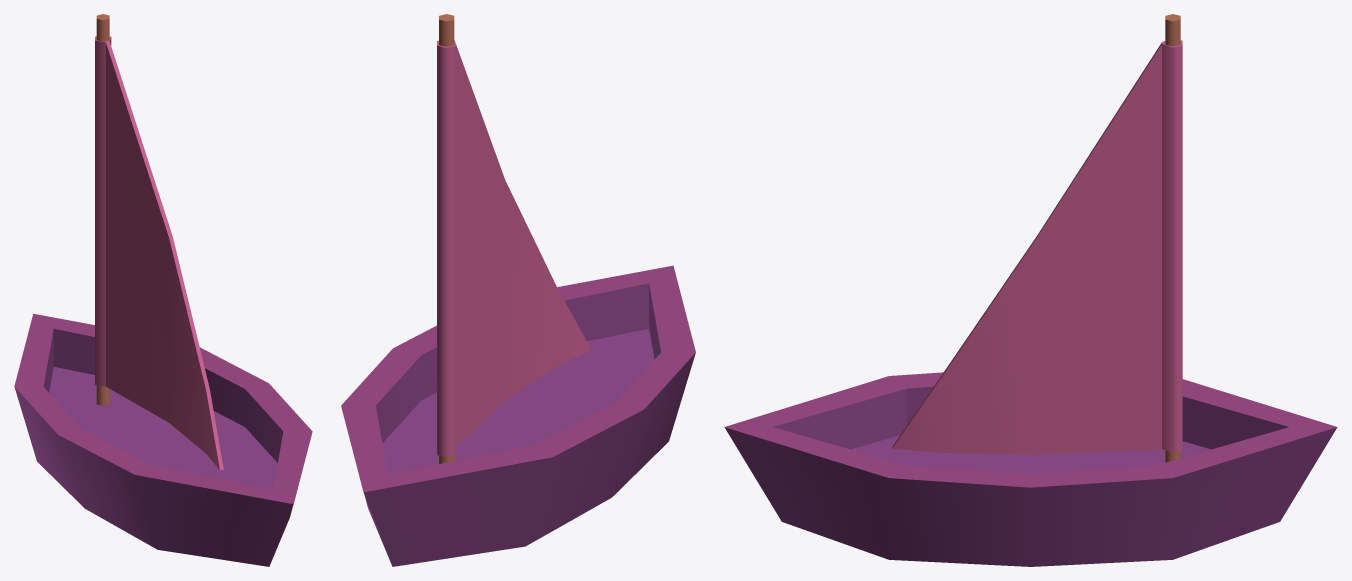
Rendered from SM_Boat_03.fbx.
3 renders of one model, left to right at view 1: azimuth 30°, elevation 25°; view 2: azimuth 150°, elevation 25°; view 3: azimuth 270°, elevation 25°, orthographic. The views are drawn at different scales.
Visible parts, largest first — view 1: SM_Boat_03; view 2: SM_Boat_03; view 3: SM_Boat_03.
Part boxes in pixels (x1,y1,x2,y2): SM_Boat_03: (14, 14, 312, 566); SM_Boat_03: (341, 14, 695, 566); SM_Boat_03: (724, 14, 1337, 566).
Bounding box in the file's own units: 17.09 × 33.16 × 36.55.
